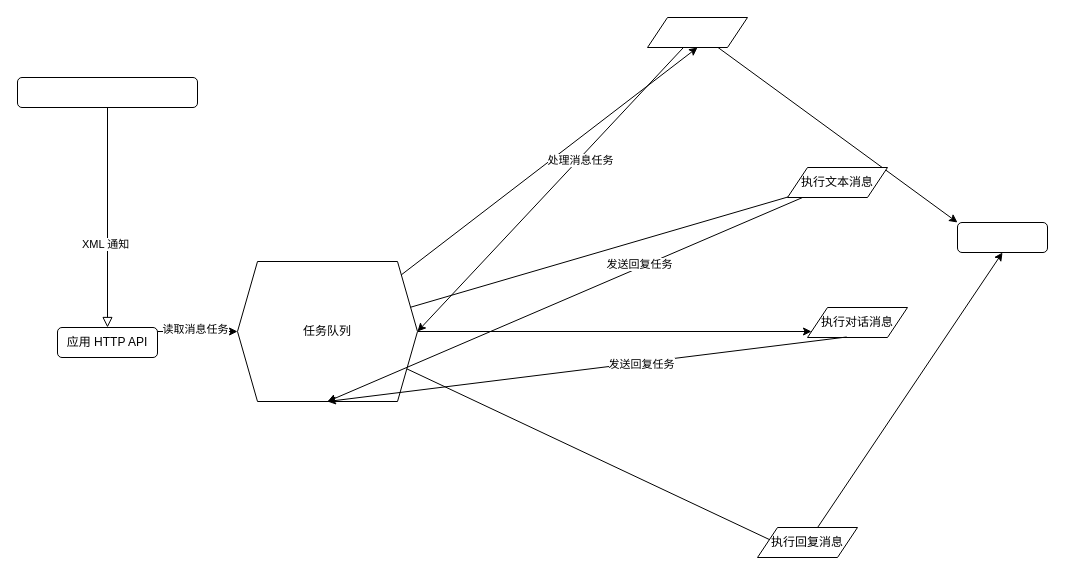
Some shapes in this 1065 by 583 pixel diagram are drawn without their labels. The centre of each missing label's shape, as x and y in pixels:
"企业微信 API" belongs at pixel 1002 237.
"企业微信客服 / 应用 消息通知" belongs at pixel 107 92.
"执行读取消息" belongs at pixel 697 32.
